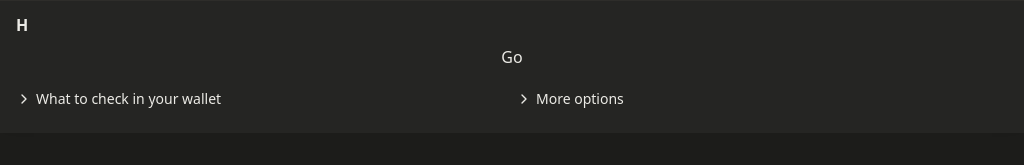
Test case: ActionBar › phone: the wallet check is one toggle instead of the long note; wide keeps the note
Later steps or results of the test are not shown.
Expected: the text "LONG NOTE" is not shown
Click the button "What to check in your wallet" at (129, 98), box [16,77,508,121]
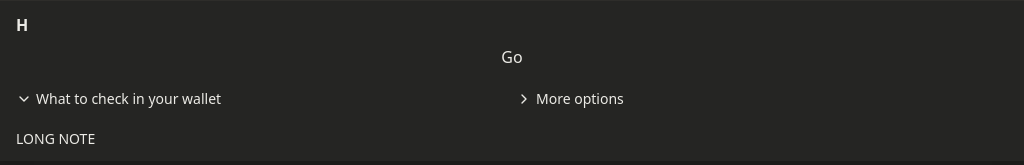
Expected: the text "LONG NOTE" is shown, [16,129,95,148]
